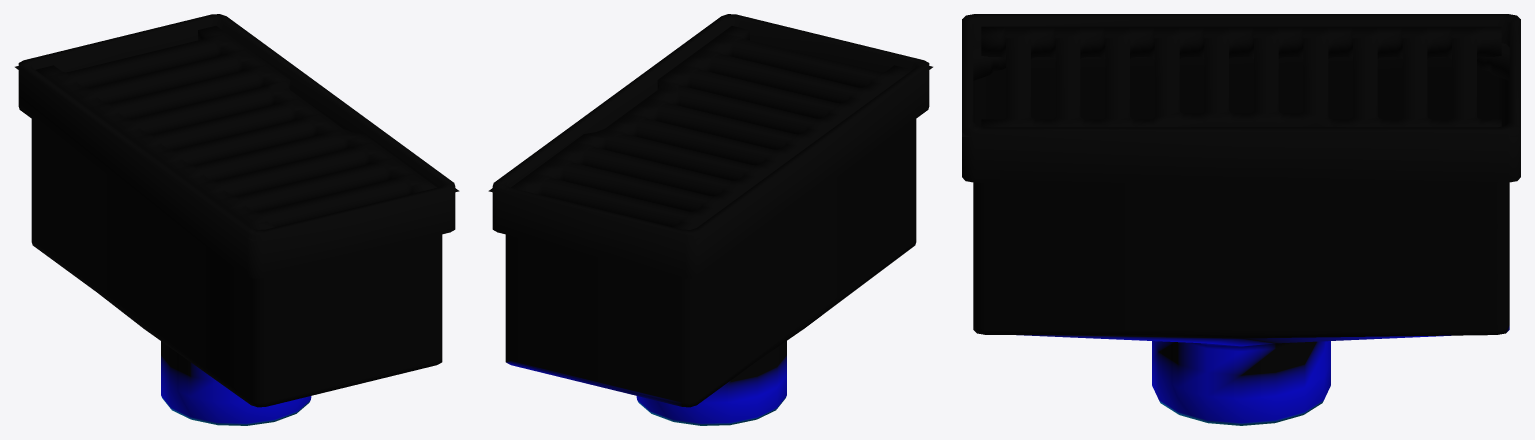
Rendered from sewer_deep.fbx.
The picture shows the model from 3 angles, left to right: view 1: azimuth 30°, elevation 25°; view 2: azimuth 150°, elevation 25°; view 3: azimuth 270°, elevation 25°; orthographic projection. The views are drawn at different scales.
Visible parts, largest first — view 1: sewer_deep; view 2: sewer_deep; view 3: sewer_deep.
Boxes of the visible parts, box(x1,y1,x2,y2) form: sewer_deep: box(15, 14, 459, 425); sewer_deep: box(488, 14, 932, 425); sewer_deep: box(962, 14, 1520, 425).
Size of the model in its own units: 0.5 by 0.6264 by 1.
